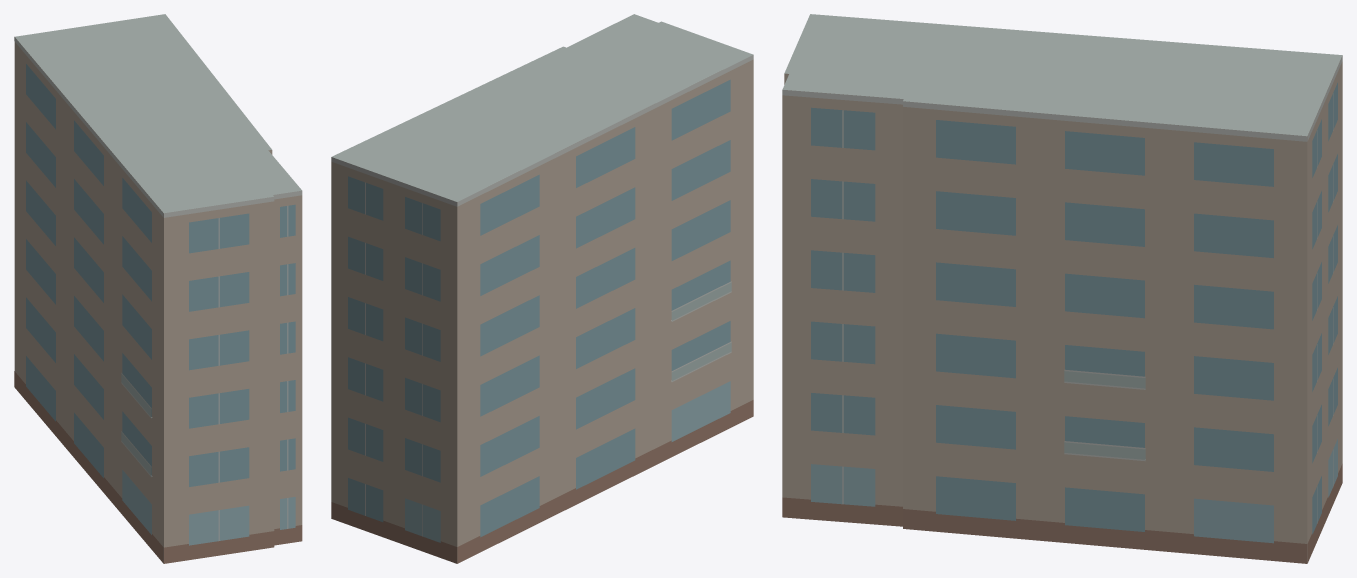
The model's file is survey-upis-32984029.glb.
3 renders of one model, left to right at view 1: azimuth 30°, elevation 25°; view 2: azimuth 150°, elevation 25°; view 3: azimuth 270°, elevation 25°, orthographic. The views are drawn at different scales.
Parts seen in each view (by area): view 1: survey-upis-32984029.tmp; view 2: survey-upis-32984029.tmp; view 3: survey-upis-32984029.tmp.
Boxes of the visible parts, x1=… form: survey-upis-32984029.tmp: x1=14, y1=14, x2=302, y2=563; survey-upis-32984029.tmp: x1=331, y1=14, x2=753, y2=563; survey-upis-32984029.tmp: x1=782, y1=14, x2=1342, y2=563.
Bounding box in the file's own units: 11.42 × 18.6 × 22.09.
